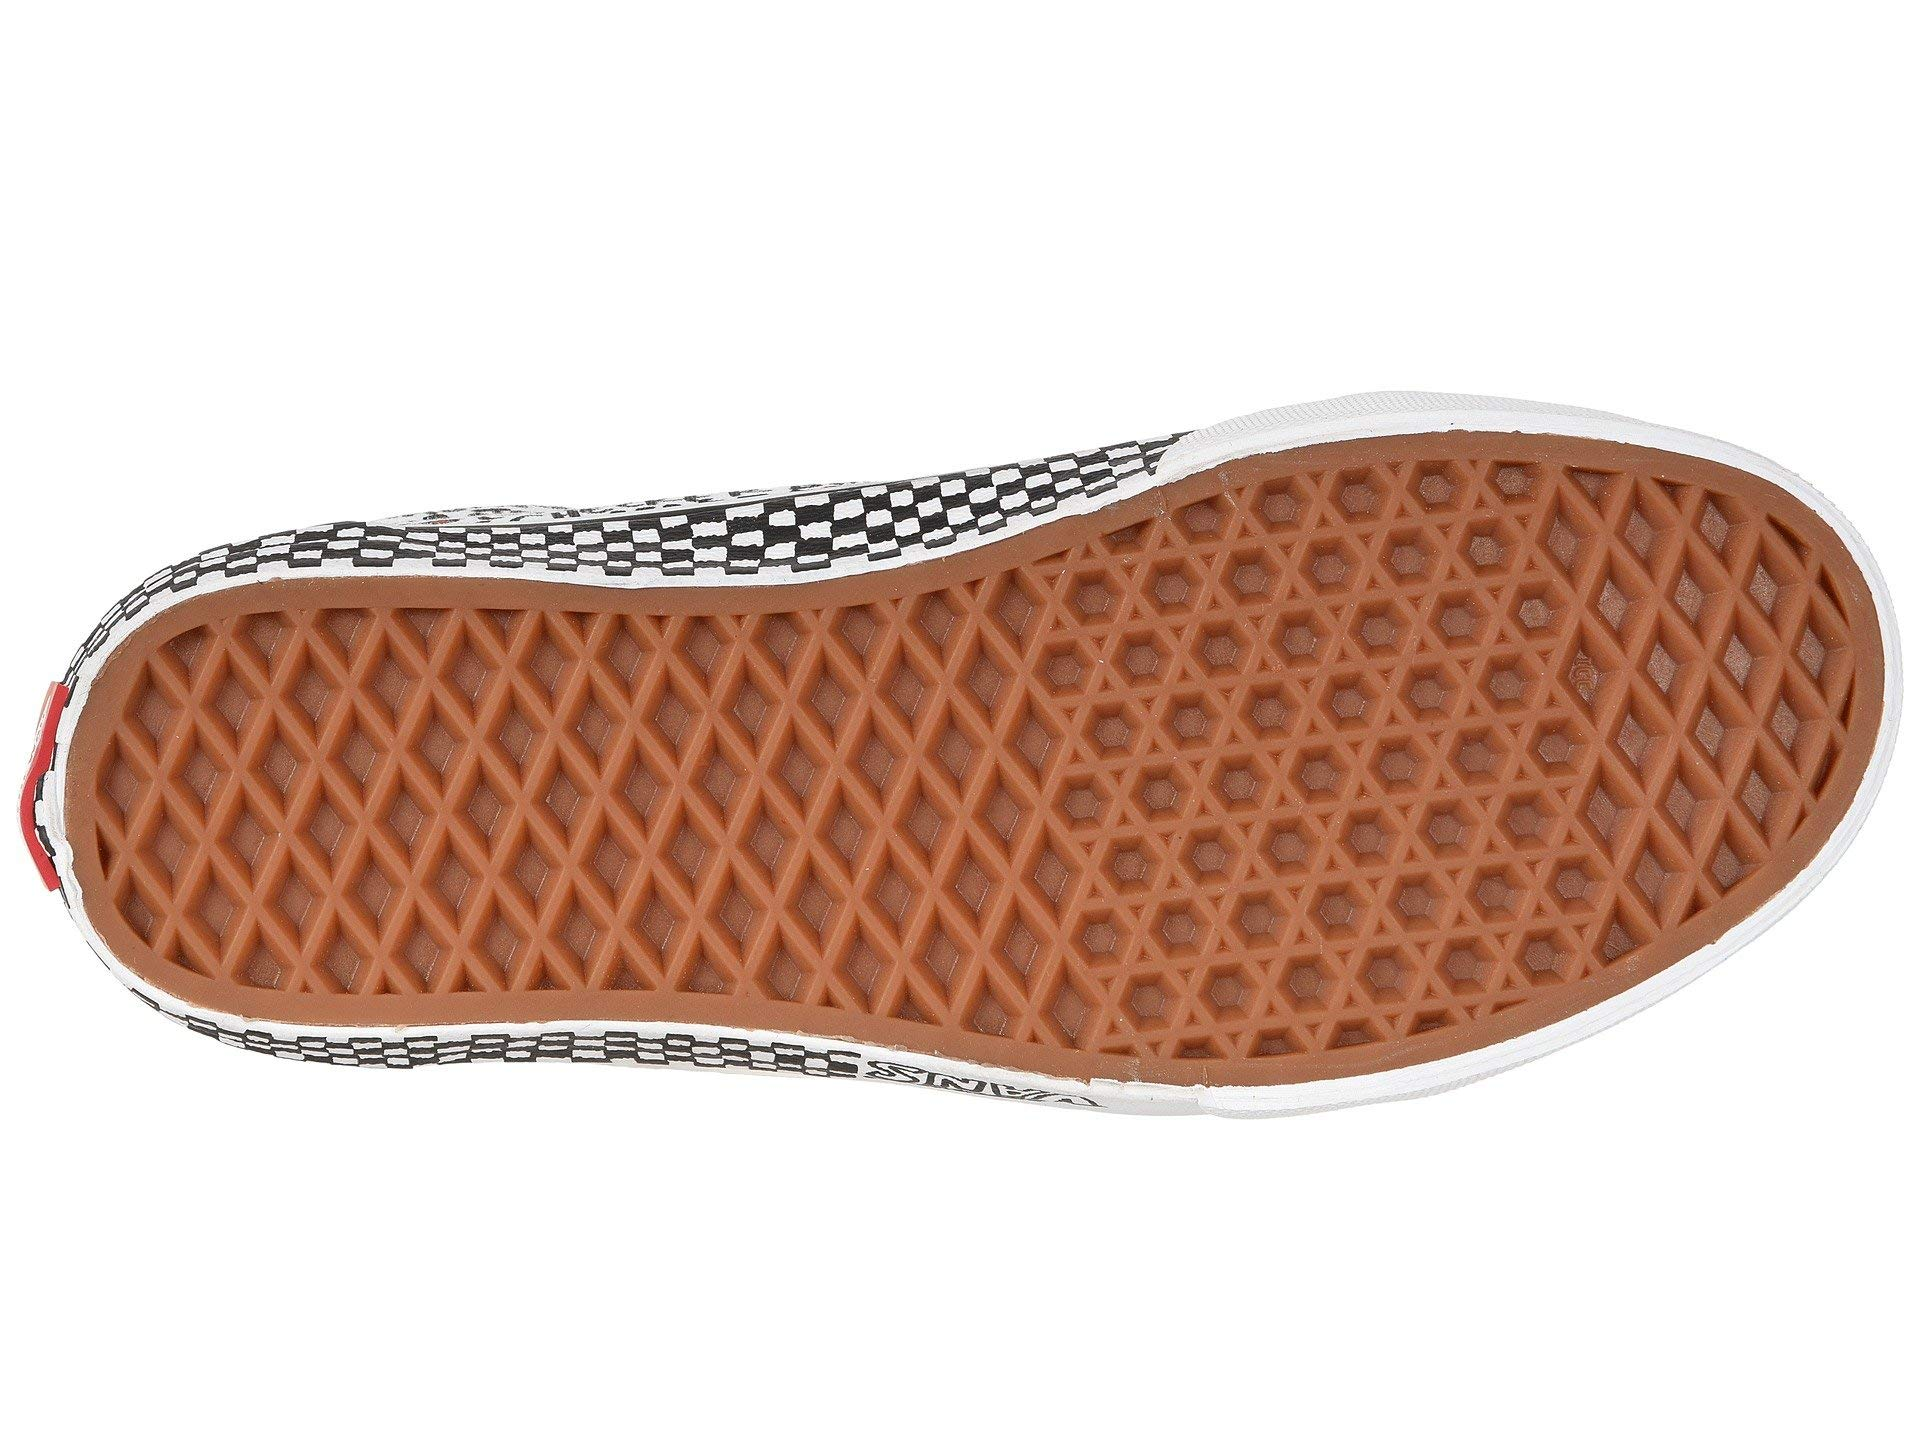polygon: (1138, 534, 1509, 1021)
quad: (144, 634, 999, 986)
triangle: (1138, 534, 1509, 1021)
